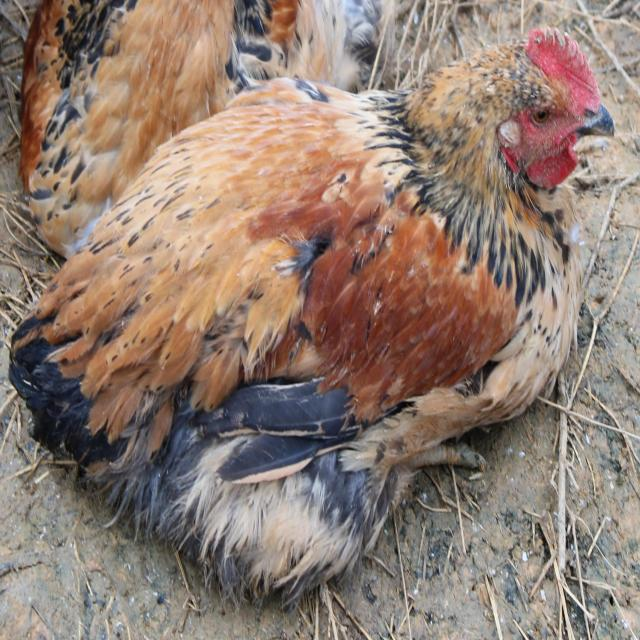hen: (10, 31, 612, 599)
